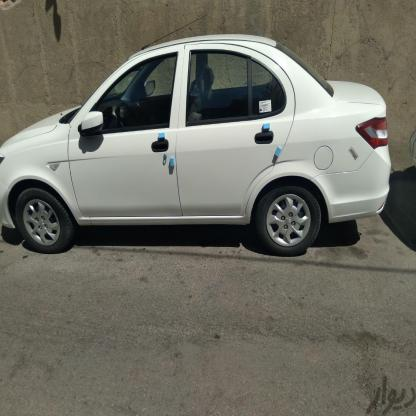Car: (0, 48, 387, 274)
